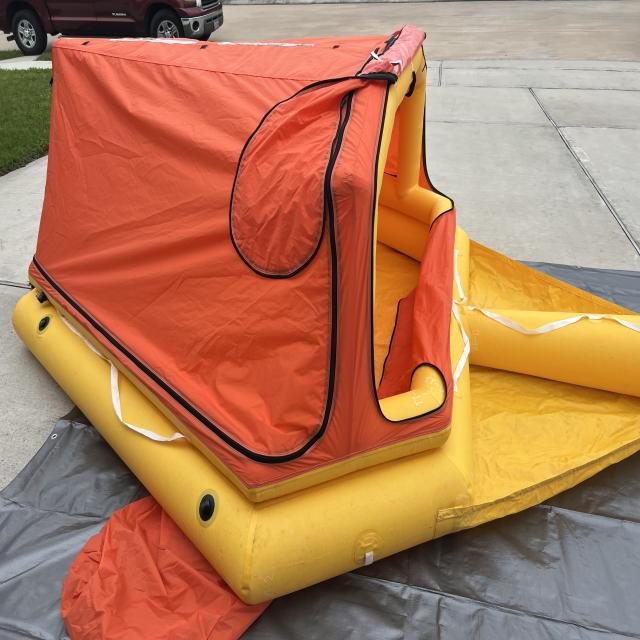Multi-person_life_raft: (11, 36, 640, 639)
